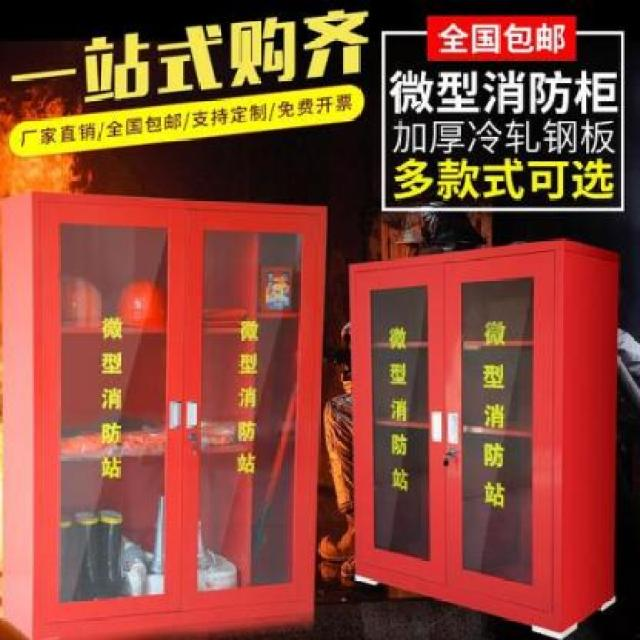firehydrant: (0, 184, 331, 640), (346, 231, 622, 639)
